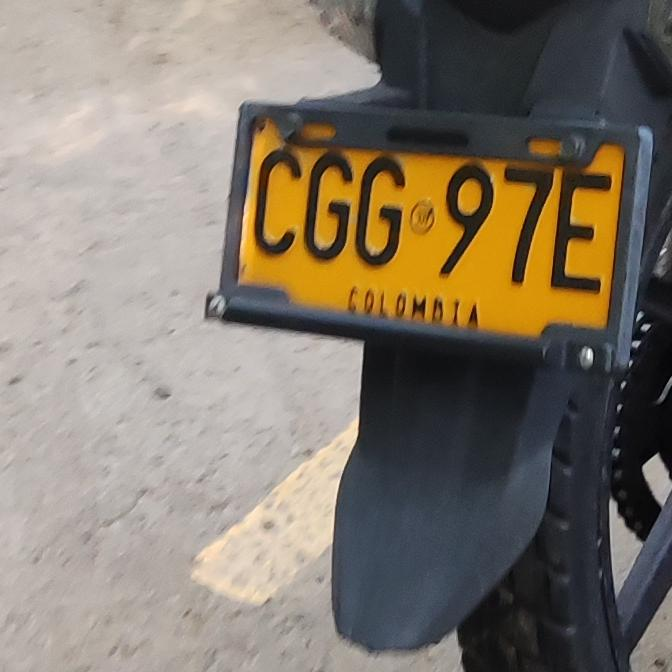plates: (215, 112, 652, 375)
